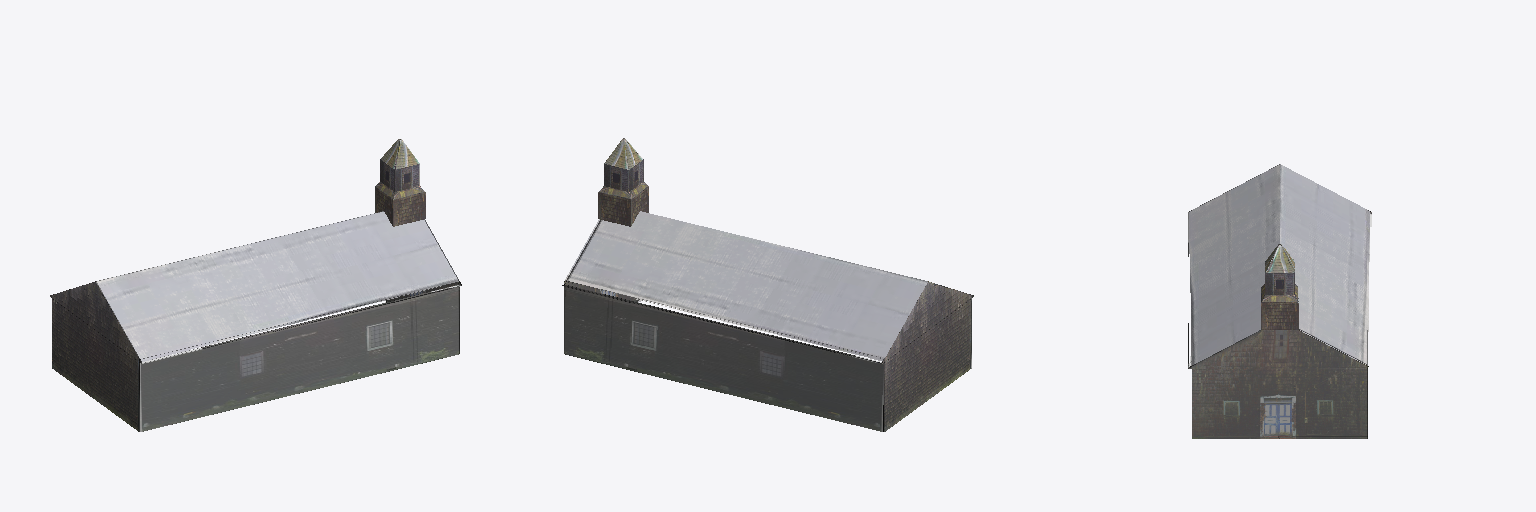
The picture shows the model from 3 angles: view 1: azimuth 30°, elevation 25°; view 2: azimuth 150°, elevation 25°; view 3: azimuth 270°, elevation 25°; orthographic projection.
Visible parts, largest first — view 1: Cube, Cube.001; view 2: Cube, Cube.001; view 3: Cube, Cube.001.
Part boxes in pixels (x1,y1,x2,y2): Cube: (50, 211, 461, 431); Cube.001: (375, 139, 425, 226); Cube: (562, 211, 973, 431); Cube.001: (598, 138, 648, 226); Cube: (1188, 164, 1371, 438); Cube.001: (1261, 244, 1298, 329).
Size of the model in its own units: 24.83 by 15.57 by 12.39.
Materials: 3 (2 with a texture image).